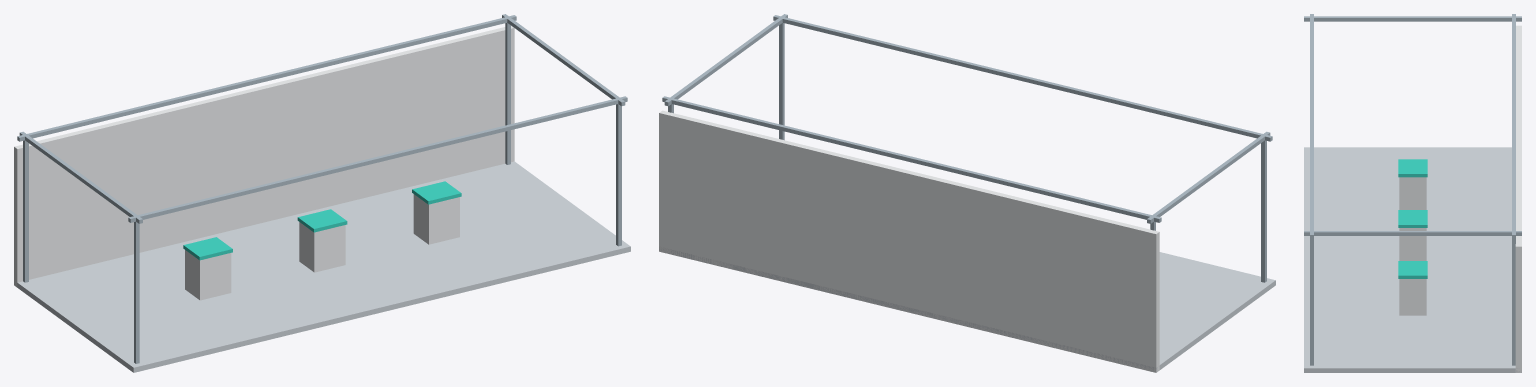
3 renders of one model, left to right at view 1: azimuth 30°, elevation 25°; view 2: azimuth 150°, elevation 25°; view 3: azimuth 270°, elevation 25°, orthographic. The views are drawn at different scales.
Visible parts, largest first — view 1: Exhibition Booth Concept; view 2: Exhibition Booth Concept; view 3: Exhibition Booth Concept.
Boxes of the visible parts, <box> form: Exhibition Booth Concept: <box>14,14,630,372</box>; Exhibition Booth Concept: <box>659,14,1275,372</box>; Exhibition Booth Concept: <box>1304,14,1521,372</box>.
Bounding box in the file's own units: 12 × 3.49 × 5.
